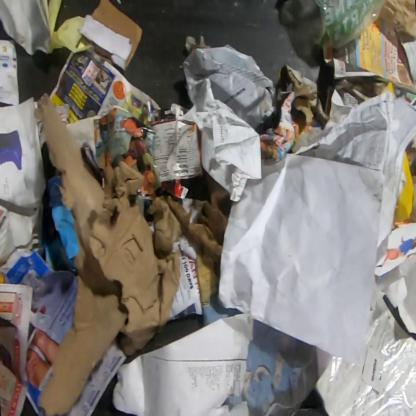cardboard: (33, 92, 129, 415), (88, 160, 188, 356), (187, 169, 231, 305), (151, 114, 204, 199), (90, 0, 144, 69), (280, 64, 330, 126), (78, 14, 132, 71), (93, 43, 113, 63)
soft_plastic: (315, 281, 415, 415), (314, 0, 387, 50)
